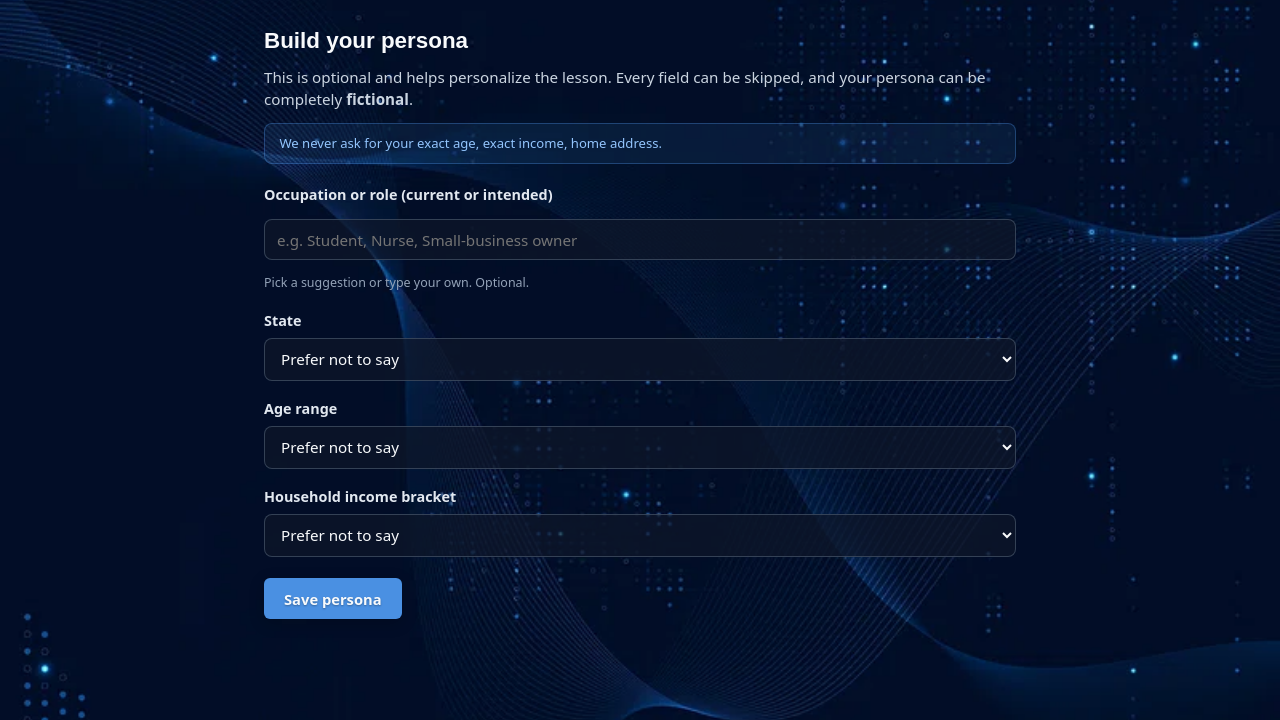
PersonaBuilder › saves a complete persona and converts blanks to null
In the field with test id "persona-occupation": {"x": 640, "y": 240} [264,219,1016,260], type "Nurse"
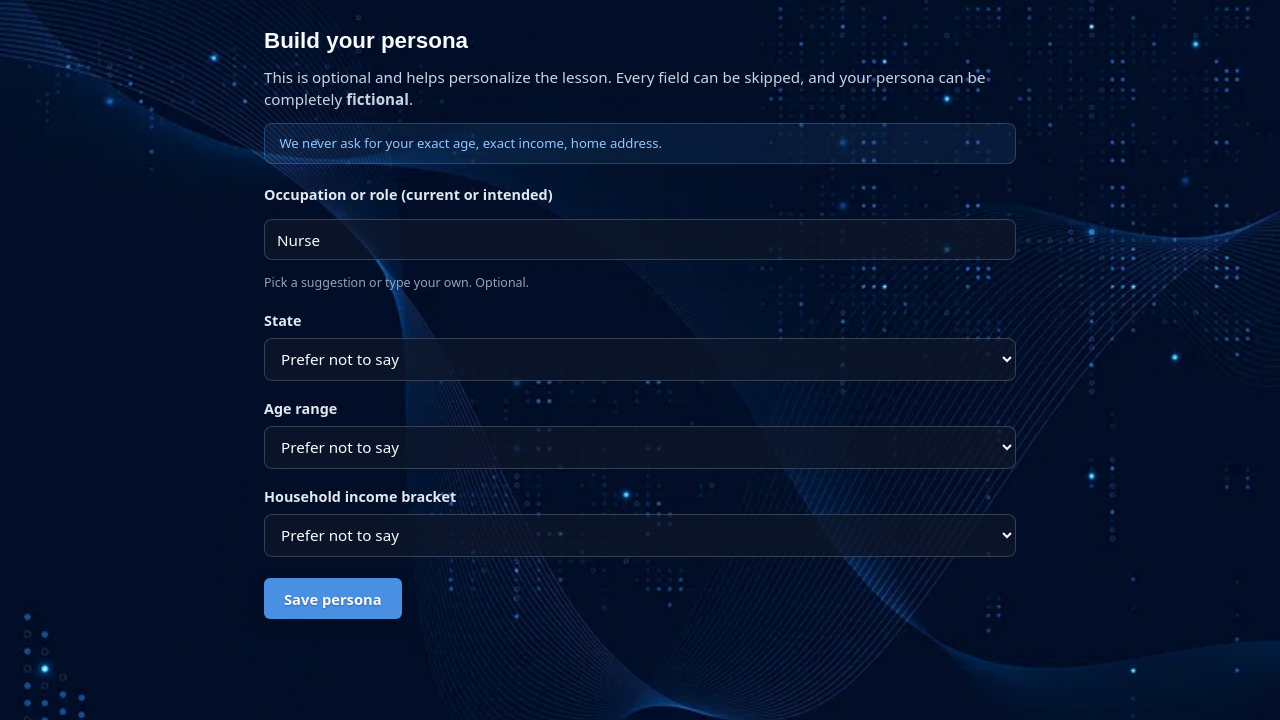
Select "California" in the dropdown with test id "persona-state": {"x": 640, "y": 359} [264,338,1016,381]
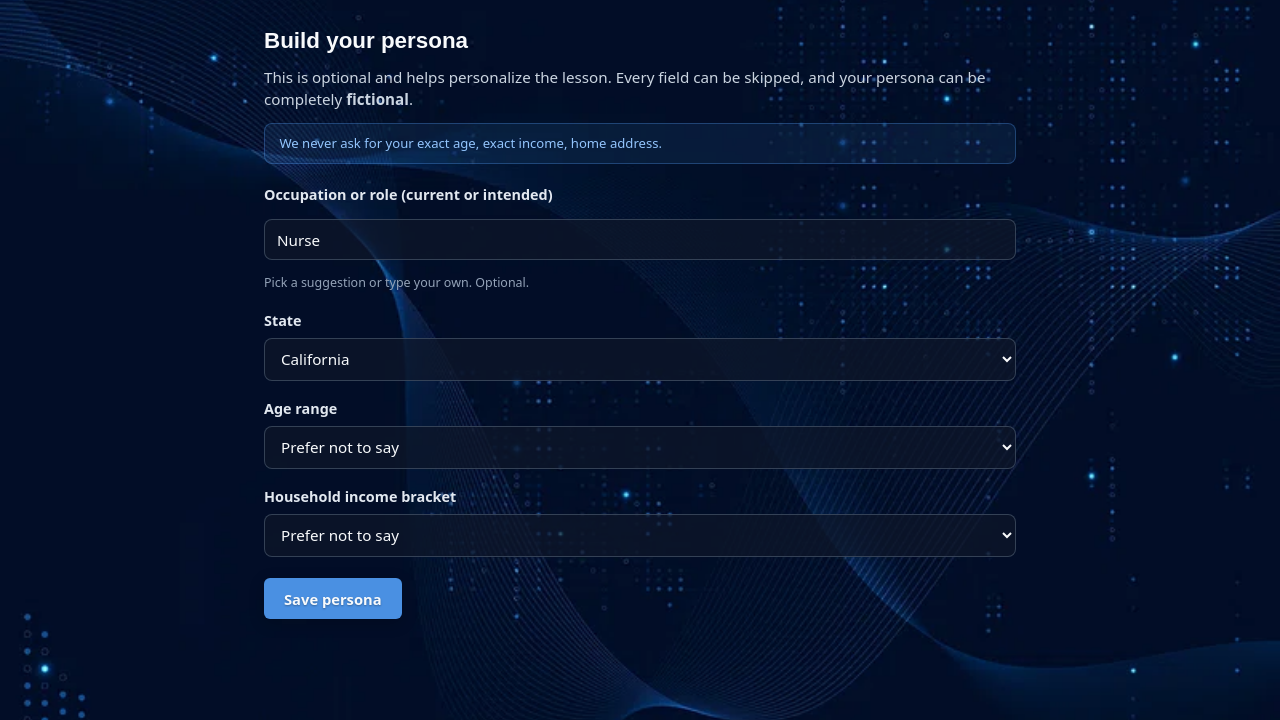
Select "25-34" in the dropdown with test id "persona-age-range": {"x": 640, "y": 447} [264,426,1016,469]
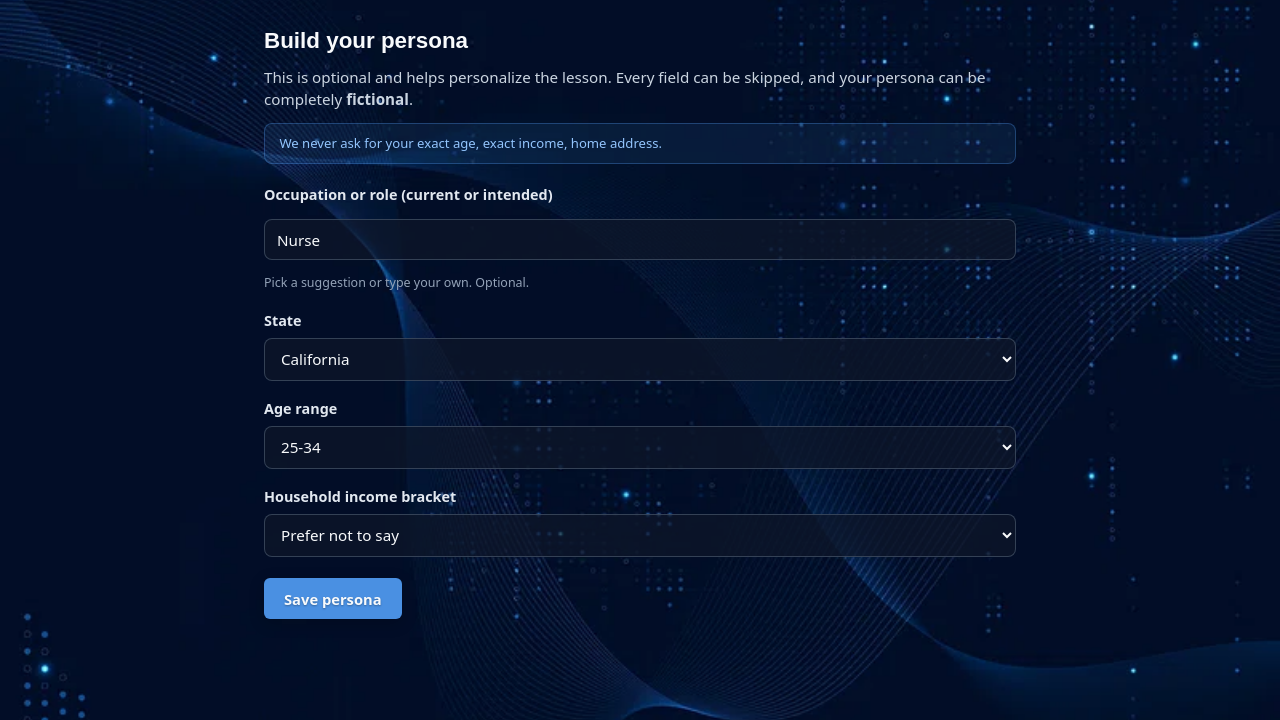
Click the button with test id "persona-save": {"x": 333, "y": 599} [264,578,402,619]
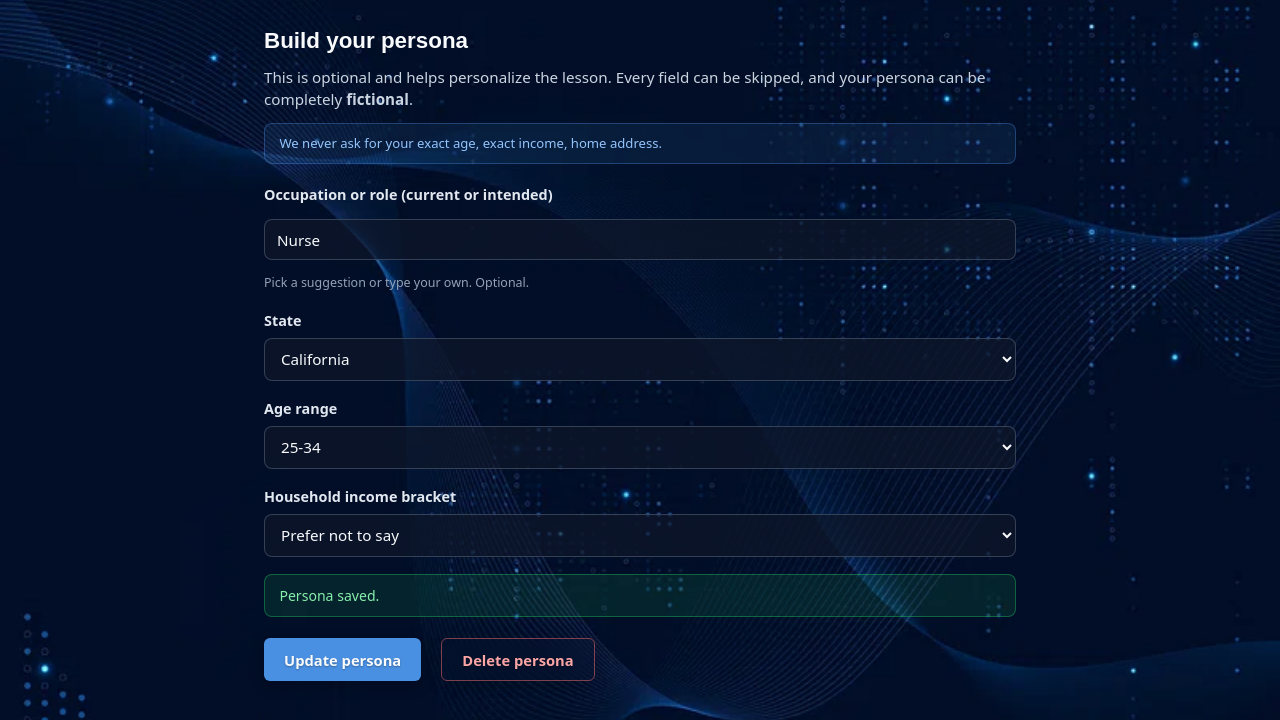
Now the message with test id "persona-status" reads "Persona saved.", box [279,586,379,605]
